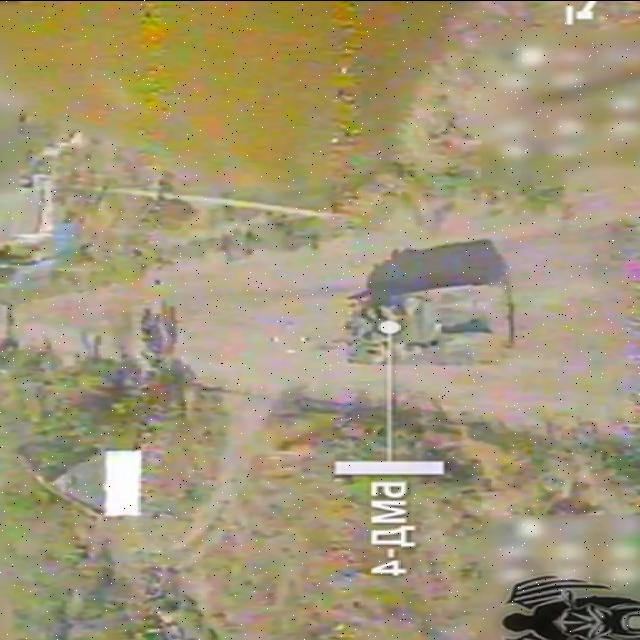APC-IFV: (333, 278, 518, 368)
